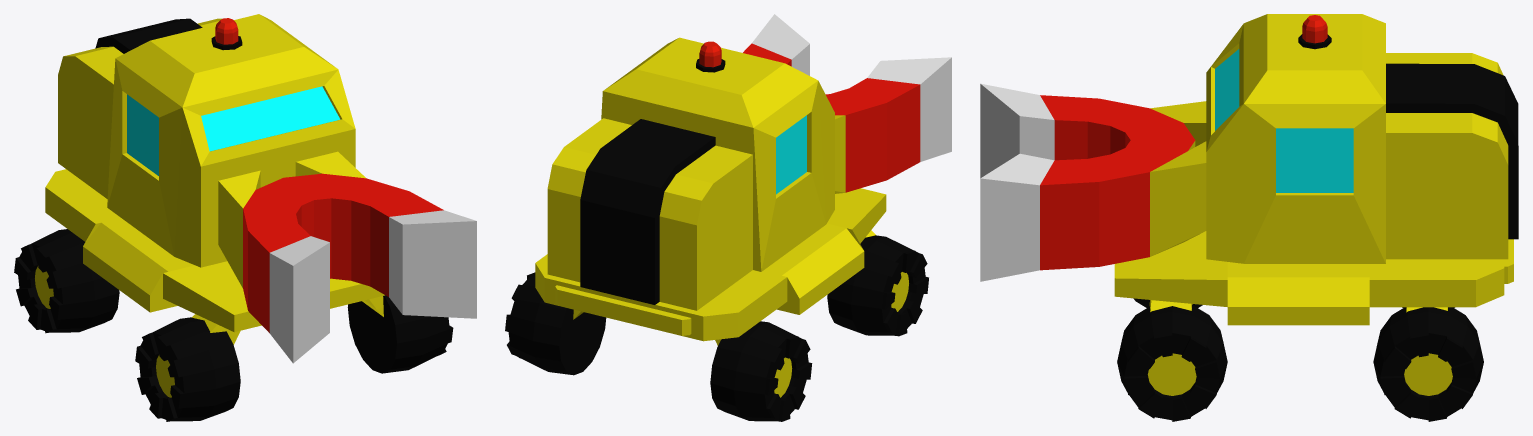
File: magnetcar.fbx
3 renders of one model, left to right at view 1: azimuth 30°, elevation 25°; view 2: azimuth 150°, elevation 25°; view 3: azimuth 270°, elevation 25°, orthographic. The views are drawn at different scales.
Parts seen in each view (by area): view 1: Arm, Body, Wheel, Wheel.002, Wheel.001; view 2: Arm, Body, Wheel.002, Wheel, Wheel.003; view 3: Arm, Body, Wheel.001, Wheel.003.
Part boxes in pixels (bbox=[...]): Arm: bbox=[58, 14, 476, 363]; Body: bbox=[45, 169, 384, 344]; Wheel: bbox=[135, 317, 240, 421]; Wheel.002: bbox=[14, 229, 119, 333]; Wheel.001: bbox=[347, 295, 453, 373]; Arm: bbox=[547, 14, 951, 310]; Body: bbox=[535, 188, 886, 345]; Wheel.002: bbox=[710, 321, 812, 421]; Wheel: bbox=[827, 235, 928, 336]; Wheel.003: bbox=[505, 272, 606, 375]; Arm: bbox=[980, 14, 1518, 281]; Body: bbox=[1114, 231, 1513, 325]; Wheel.001: bbox=[1117, 305, 1227, 421]; Wheel.003: bbox=[1373, 307, 1483, 421].
Bounding box in the file's own units: 431 × 486 × 696.
